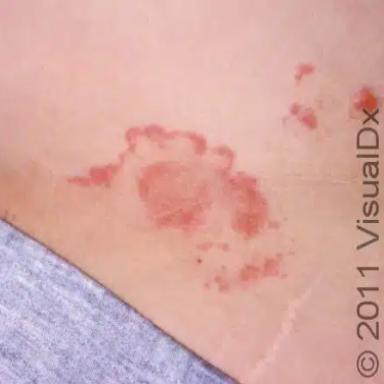Tinea-Corporis: (66, 125, 279, 240), (203, 255, 281, 292), (197, 242, 230, 251), (197, 256, 203, 265)
